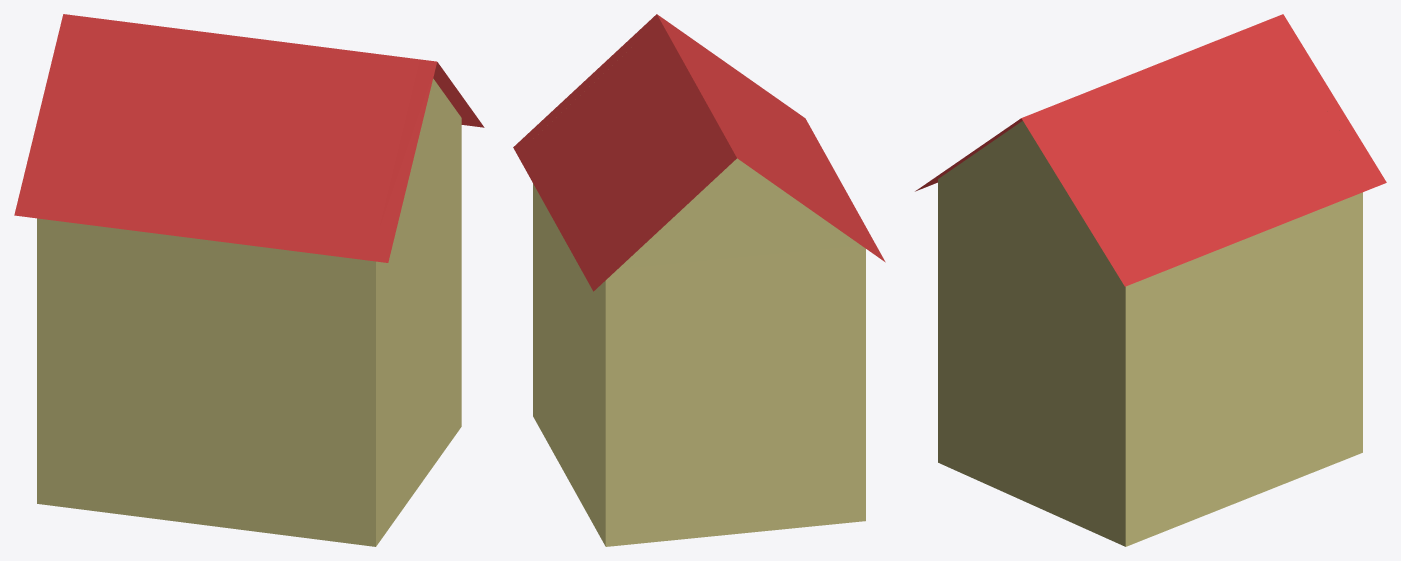
The picture shows the model from 3 angles, left to right: view 1: azimuth 30°, elevation 25°; view 2: azimuth 150°, elevation 25°; view 3: azimuth 270°, elevation 25°; orthographic projection. The views are drawn at different scales.
Bounding box in the file's own units: 13.91 × 13.97 × 12.79.
